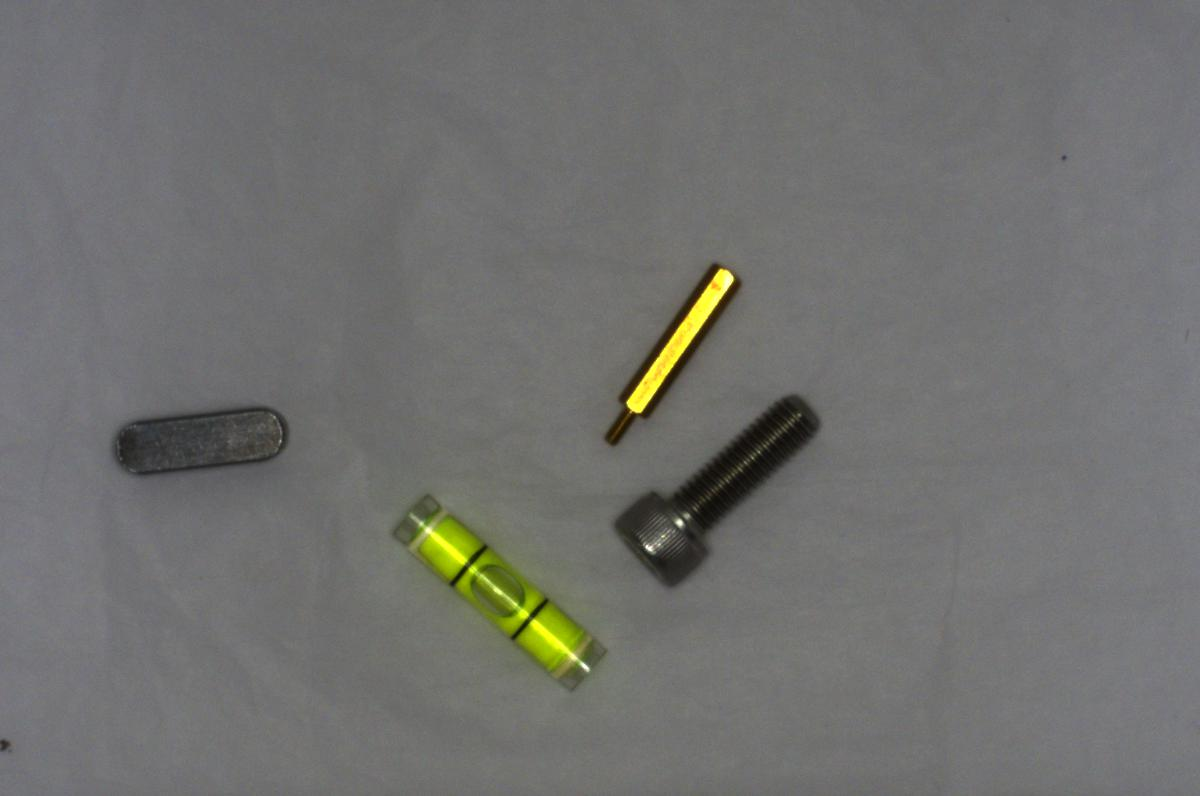Hexagon pillar: (600, 252, 744, 449)
Hexagon screw: (597, 390, 824, 580)
Horizontal bubble: (387, 492, 607, 693)
Keybar: (105, 402, 293, 482)
